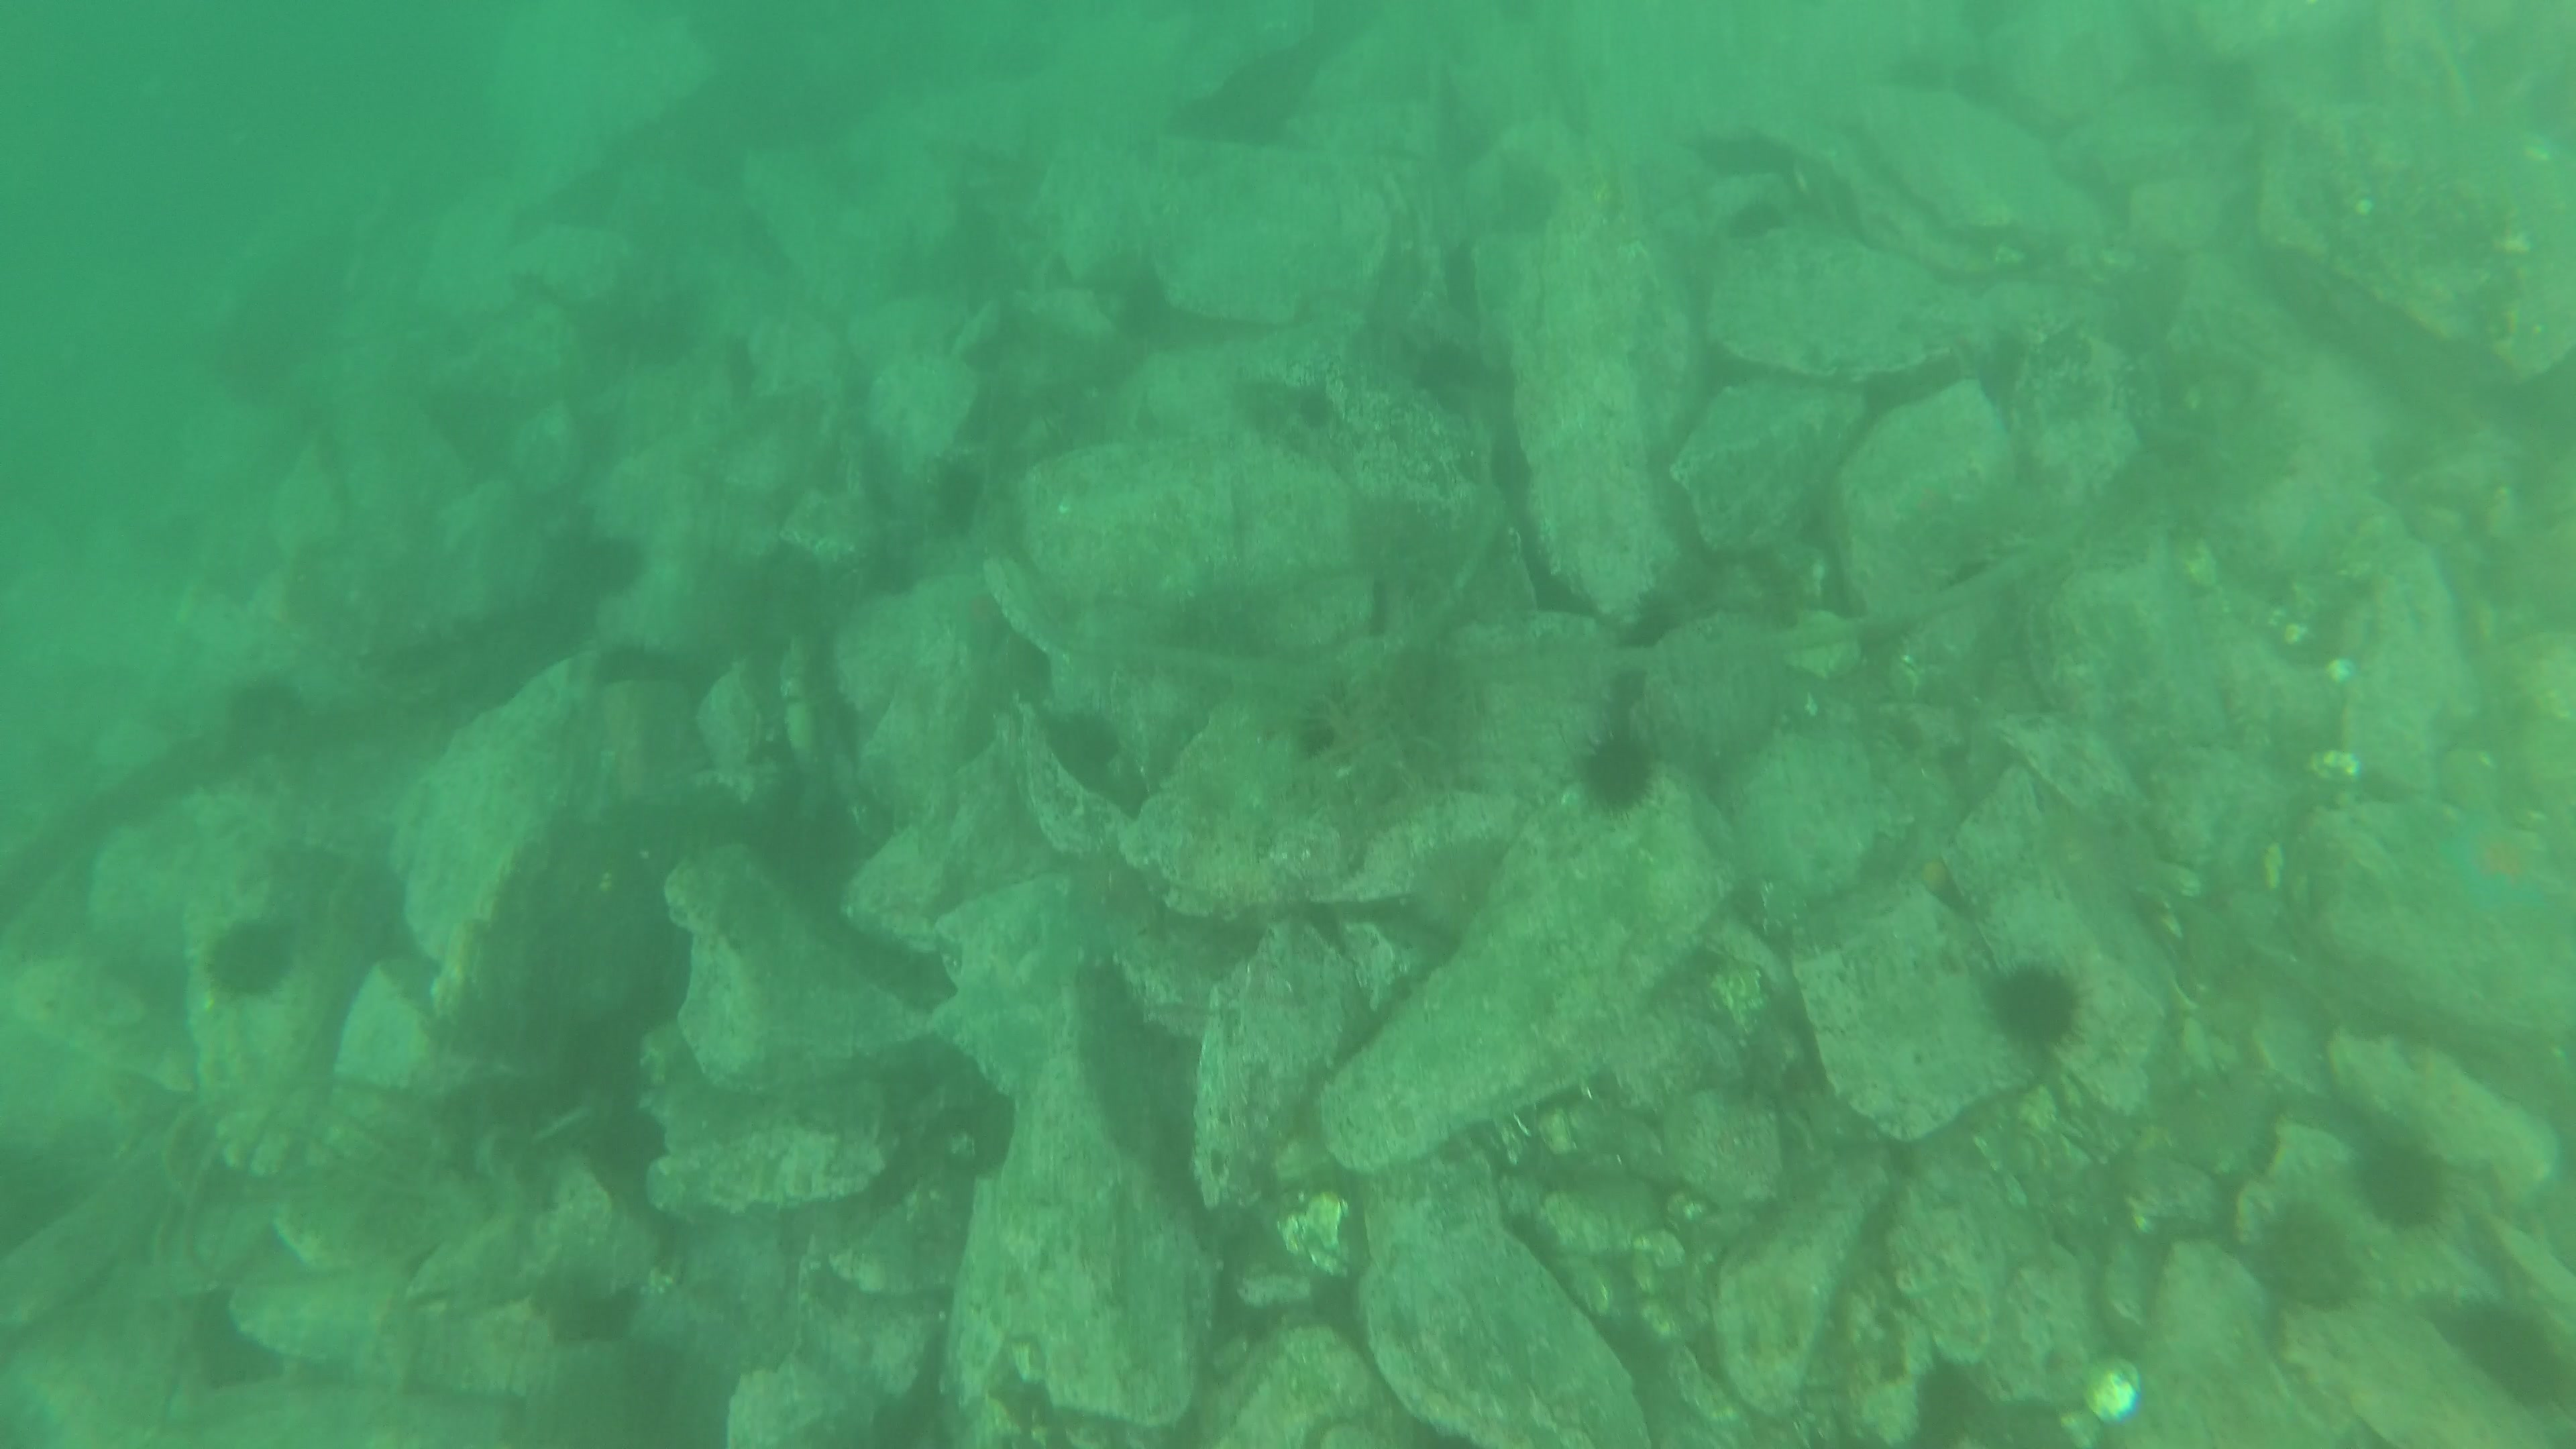echinus: (2254, 1191, 2358, 1307), (2465, 1292, 2560, 1401), (1983, 962, 2082, 1054), (2355, 1138, 2445, 1230), (196, 918, 294, 1001), (1575, 727, 1656, 810), (1040, 713, 1131, 786), (594, 637, 679, 701), (596, 1111, 672, 1175), (577, 536, 646, 594)
starfish: (2431, 800, 2557, 927)
